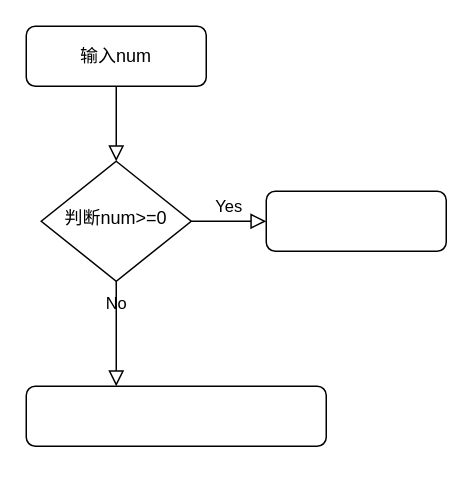
Some shapes in this 473 by 479 pixel diagram are drawn without their labels. The box of each missing label's shape, as (x1, y1, x2, y2) in pixels:
Square root error - illegal negative input: (25, 385, 326, 446)
输出num平方根: (265, 190, 446, 251)
